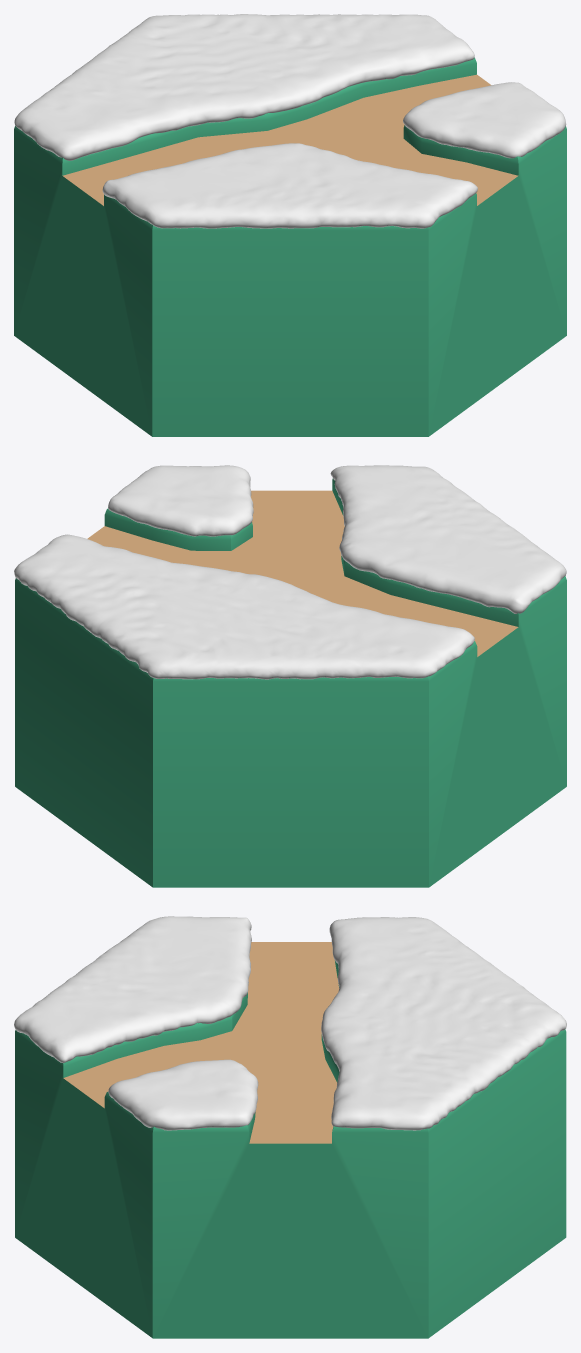
Rendered from snow_hex_forest_roadE.fbx.
3 renders of one model, top to bottom at view 1: azimuth 30°, elevation 25°; view 2: azimuth 150°, elevation 25°; view 3: azimuth 270°, elevation 25°, orthographic.
Parts seen in each view (by area): view 1: hex_forest_roadE.001, SnowBall.001, hex_forest_roadE; view 2: hex_forest_roadE.001, SnowBall.001, hex_forest_roadE; view 3: hex_forest_roadE.001, SnowBall.001, hex_forest_roadE.
Part boxes in pixels (<box>): hex_forest_roadE.001: <box>14,57,566,436</box>; SnowBall.001: <box>14,14,566,228</box>; hex_forest_roadE: <box>62,74,518,205</box>; hex_forest_roadE.001: <box>15,478,566,887</box>; SnowBall.001: <box>14,465,566,679</box>; hex_forest_roadE: <box>87,490,518,656</box>; hex_forest_roadE.001: <box>15,961,566,1338</box>; SnowBall.001: <box>14,916,566,1130</box>; hex_forest_roadE: <box>63,942,339,1143</box>.
Bounding box in the file's own units: 204 × 104 × 232.
